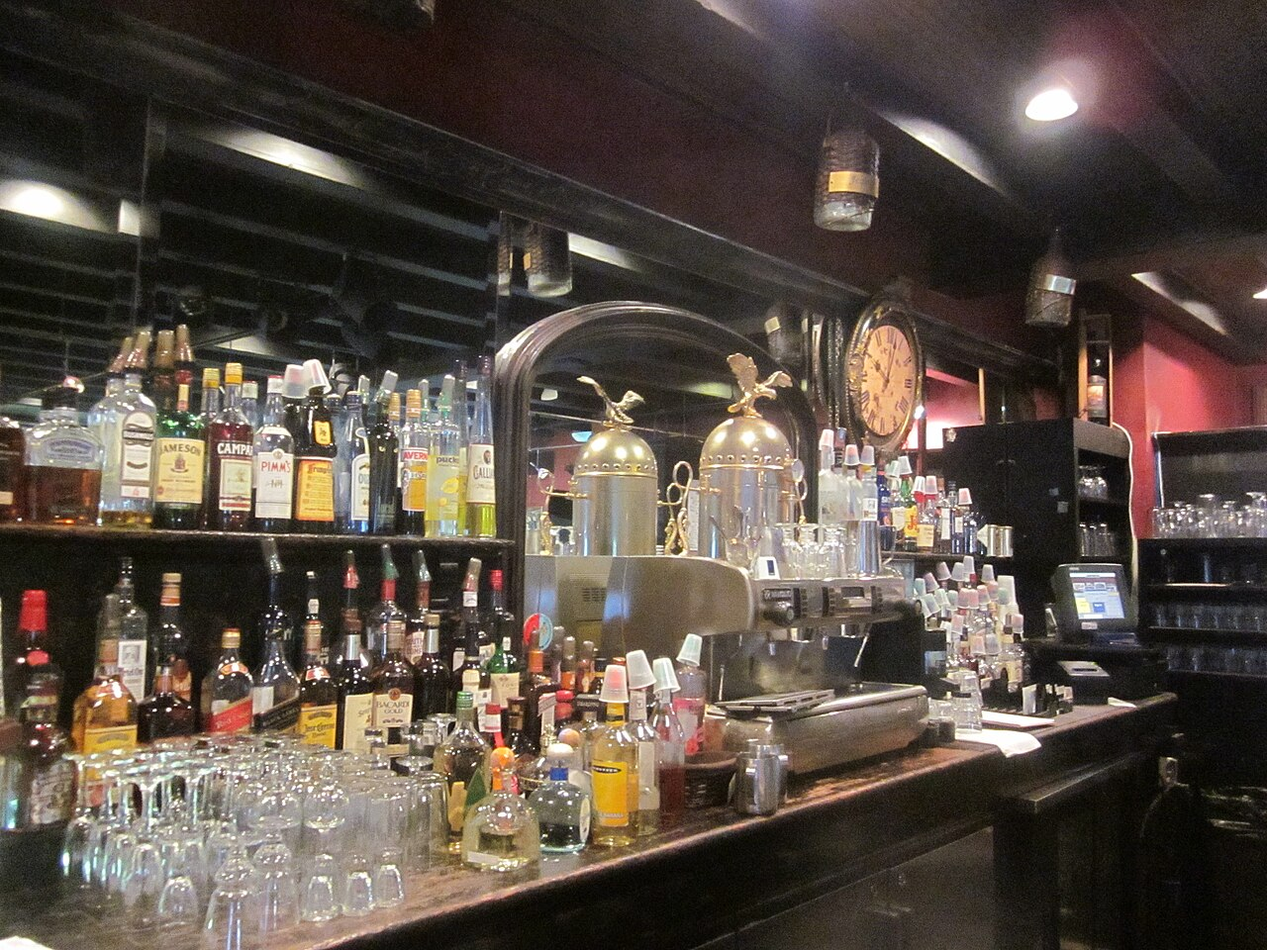campari: (207, 367, 256, 532)
jameson: (153, 373, 208, 531)
johnnieblack: (251, 614, 300, 735)
johnniered: (200, 627, 254, 736)
unknown_bottle: (590, 676, 639, 848), (435, 693, 489, 838), (72, 638, 139, 754), (292, 376, 339, 532), (250, 375, 296, 532), (532, 741, 591, 856), (427, 377, 467, 538), (297, 611, 339, 750), (371, 621, 416, 747), (335, 619, 377, 754), (397, 387, 432, 536), (651, 691, 686, 823), (345, 387, 373, 535), (415, 612, 452, 721)
